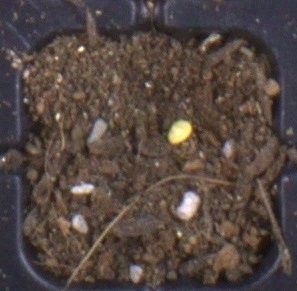chilli seed: (167, 119, 192, 145)
